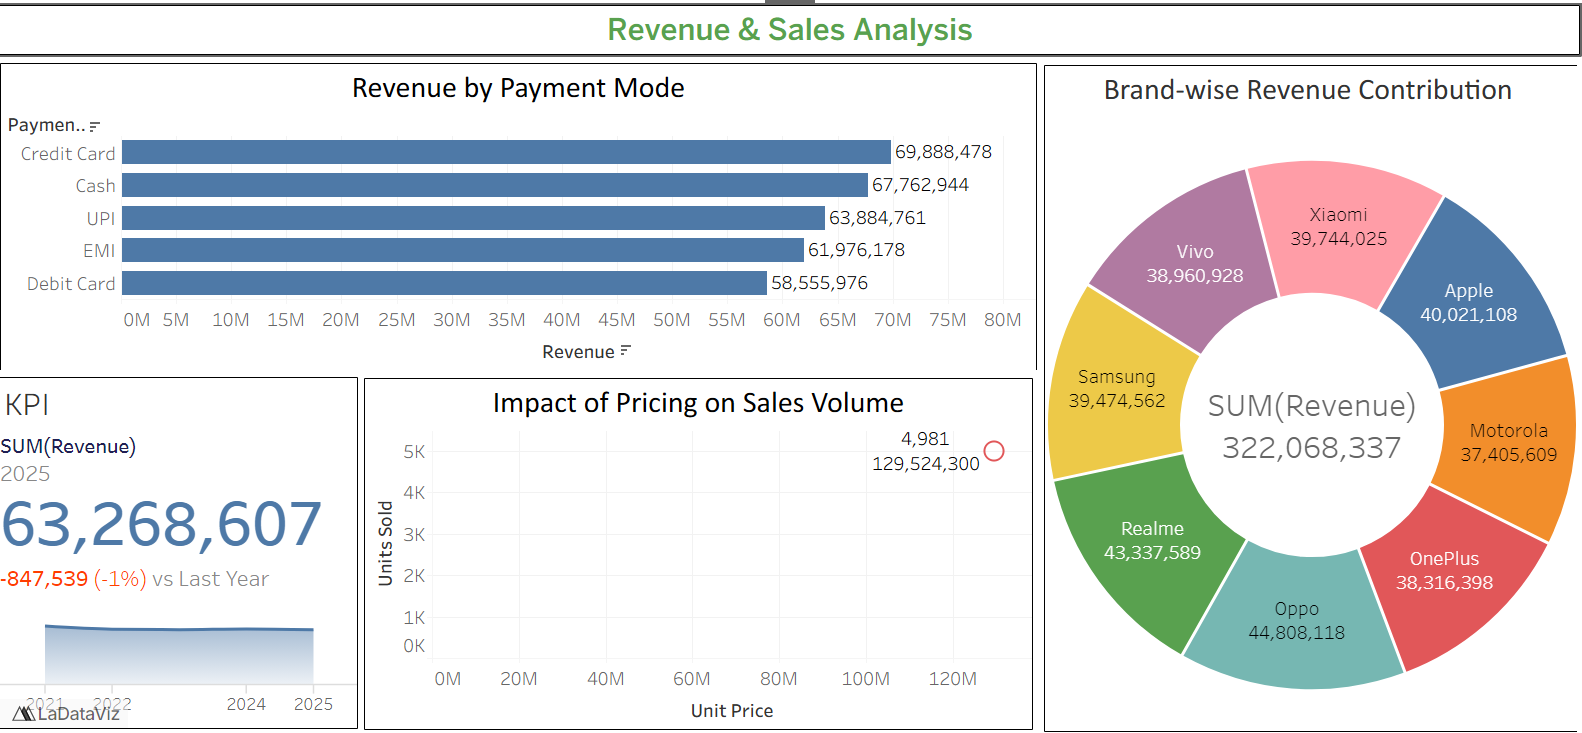

Layout of this report page (visuals, bound fields, positions):
{"tool":"tableau","page":{"name":"Dashboard 2","canvas":[1000,1000],"units":"permille","ordinal":1},"visuals":[{"type":"text","box":[1.9,20.6,986.4,67.1]},{"type":"worksheet","title":"Revenue by Payment Mode","mark":"Automatic","rows":["Payment_Mode"],"cols":["Revenue"],"box":[2.5,97.3,646.3,412.3]},{"type":"worksheet","title":"Top brand by revenue","box":[653.1,100,333.3,894.5]},{"type":"worksheet","title":"KPI","box":[1.9,519.4,224.1,471.2]},{"type":"worksheet","title":"Price vs Units Sold","mark":"Automatic","rows":["Units_Sold"],"cols":["Unit_Price"],"box":[229.6,520.8,417.3,471.2]}]}

Visuals, with their boxes on the dashboard's canvas, which has no fixed pixel size, in thousandths of its width and height (x1, y1, x2, y2). These are canvas units, not pixel positions in the 1582x733 screenshot, which may show the page scaled, cropped or inside an application window:
text: [2,21,988,88]
"Revenue by Payment Mode" worksheet: [2,97,649,510]
"Top brand by revenue" worksheet: [653,100,986,994]
"KPI" worksheet: [2,519,226,991]
"Price vs Units Sold" worksheet: [230,521,647,992]
